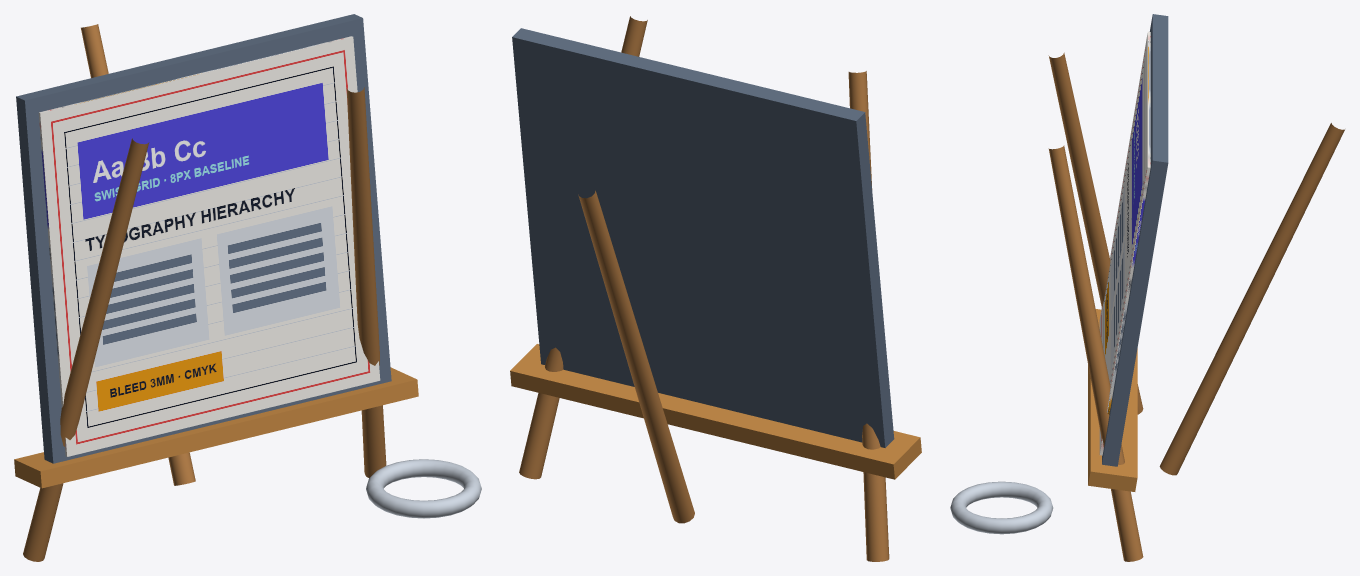
The model's file is design-typography.glb.
3 renders of one model, left to right at view 1: azimuth 30°, elevation 25°; view 2: azimuth 150°, elevation 25°; view 3: azimuth 270°, elevation 25°, orthographic. The views are drawn at different scales.
Parts seen in each view (by area): view 1: Poster_Print, Poster_Frame, Easel_Shelf, Easel_Leg_L, Easel_Leg_R, Loupe_Ring, Easel_Leg_Back; view 2: Poster_Frame, Easel_Shelf, Easel_Leg_Back, Easel_Leg_L, Easel_Leg_R; view 3: Poster_Frame, Poster_Print, Easel_Leg_Back, Easel_Leg_R, Easel_Leg_L, Loupe_Ring, Easel_Shelf.
Part boxes in pixels (x1,y1,x2,y2): Poster_Print: (38, 36, 380, 456); Poster_Frame: (16, 14, 391, 463); Easel_Shelf: (14, 367, 418, 488); Easel_Leg_L: (23, 138, 149, 561); Easel_Leg_R: (346, 87, 386, 477); Loupe_Ring: (366, 459, 481, 518); Easel_Leg_Back: (81, 24, 195, 485); Poster_Frame: (512, 28, 894, 447); Easel_Shelf: (510, 344, 921, 479); Easel_Leg_Back: (578, 190, 694, 523); Easel_Leg_L: (848, 71, 889, 561); Easel_Leg_R: (519, 16, 647, 479); Poster_Frame: (1102, 14, 1168, 466); Poster_Print: (1099, 31, 1150, 455); Easel_Leg_Back: (1159, 123, 1344, 475); Easel_Leg_R: (1048, 145, 1143, 561); Easel_Leg_L: (1048, 52, 1143, 414); Loupe_Ring: (950, 481, 1053, 534); Easel_Shelf: (1088, 309, 1137, 491).
Size of the model in its own units: 1.99 by 2.22 by 1.99.
7 materials, 1 textured.
